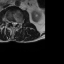CCS_normal: (13, 21, 15, 29)
LFS_severe_stenosis: (17, 21, 19, 25)
LLS_normal: (15, 20, 17, 26)
RFS_severe_stenosis: (9, 20, 11, 24)
RLS_stenosis: (11, 20, 13, 26)
